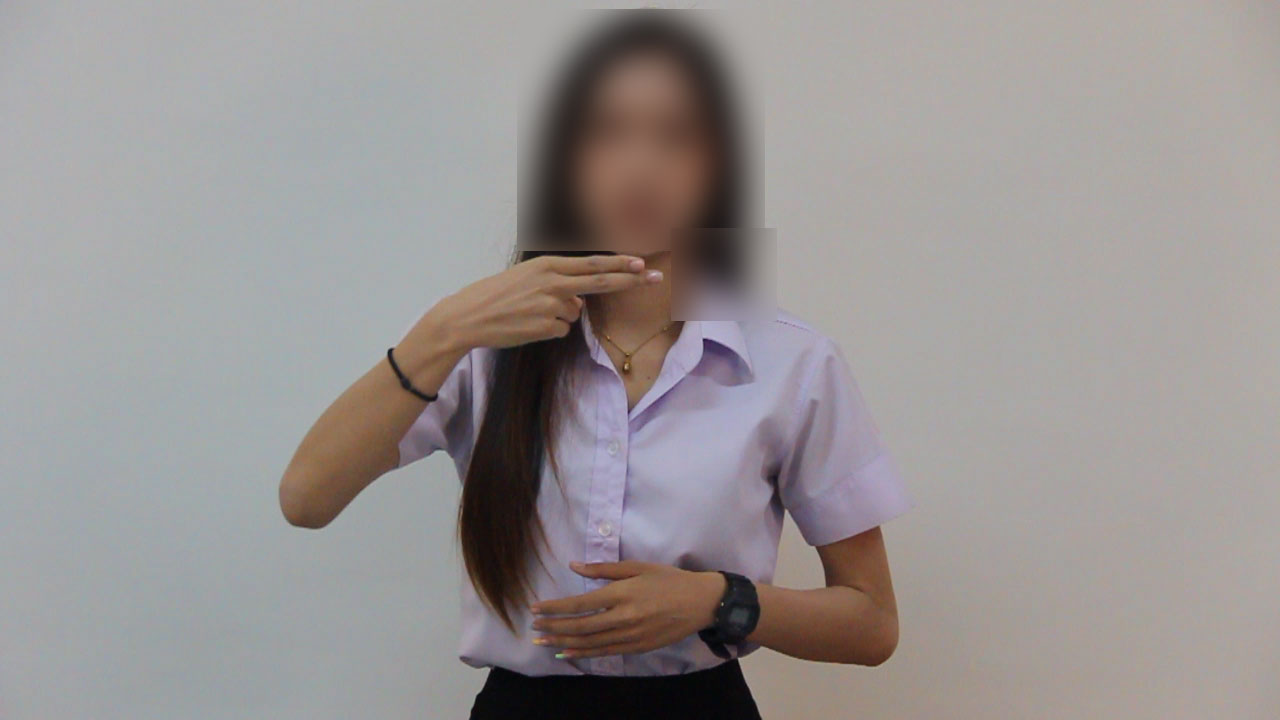hor: (415, 242, 681, 364)
